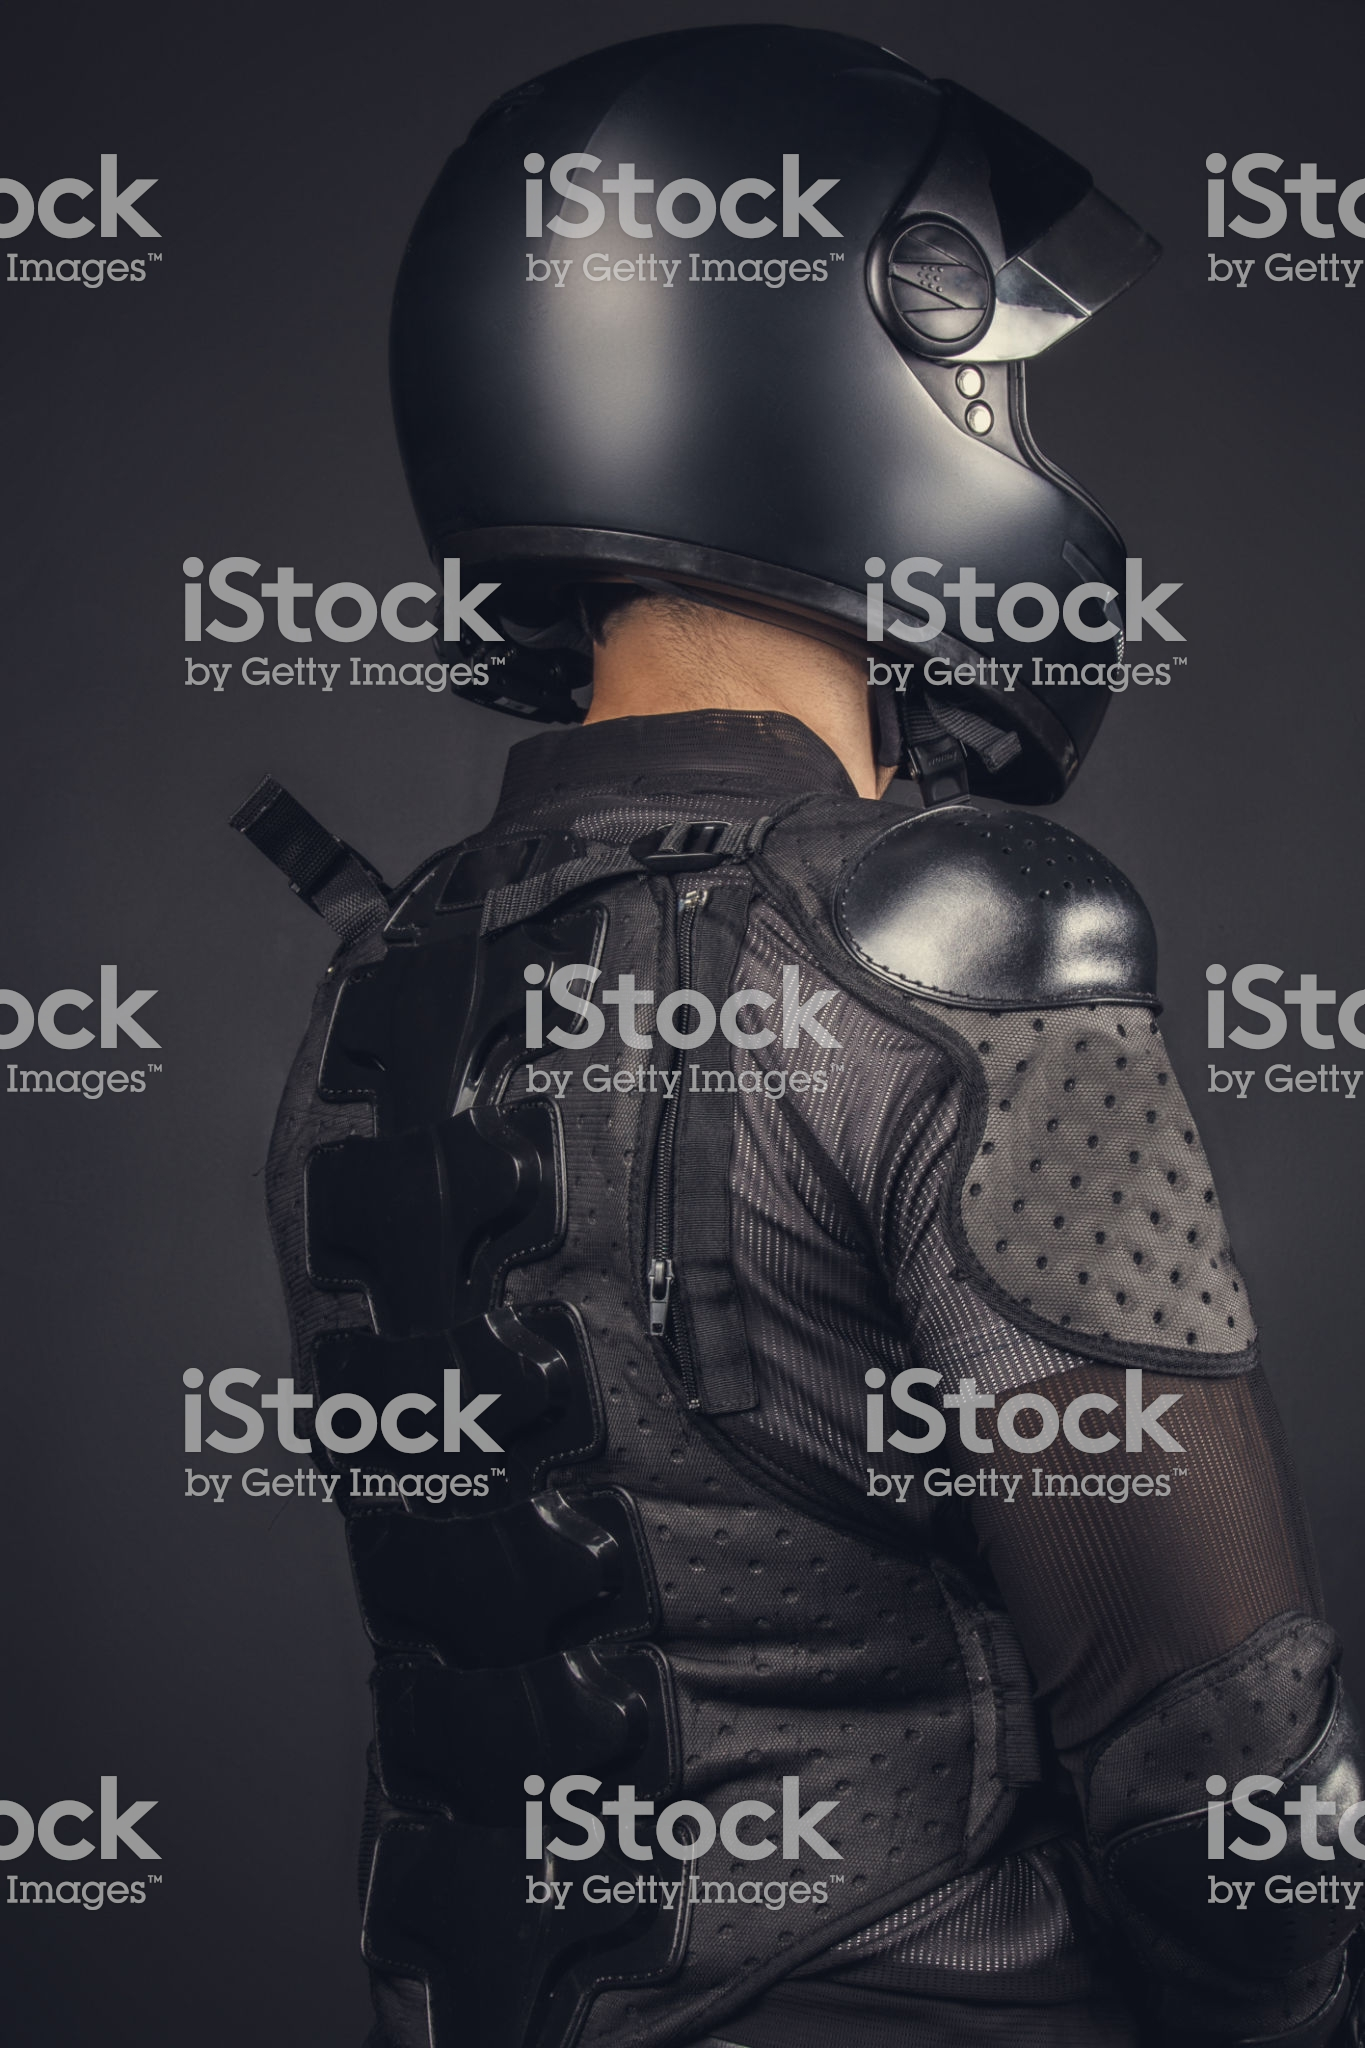helmet: (395, 78, 1185, 748)
